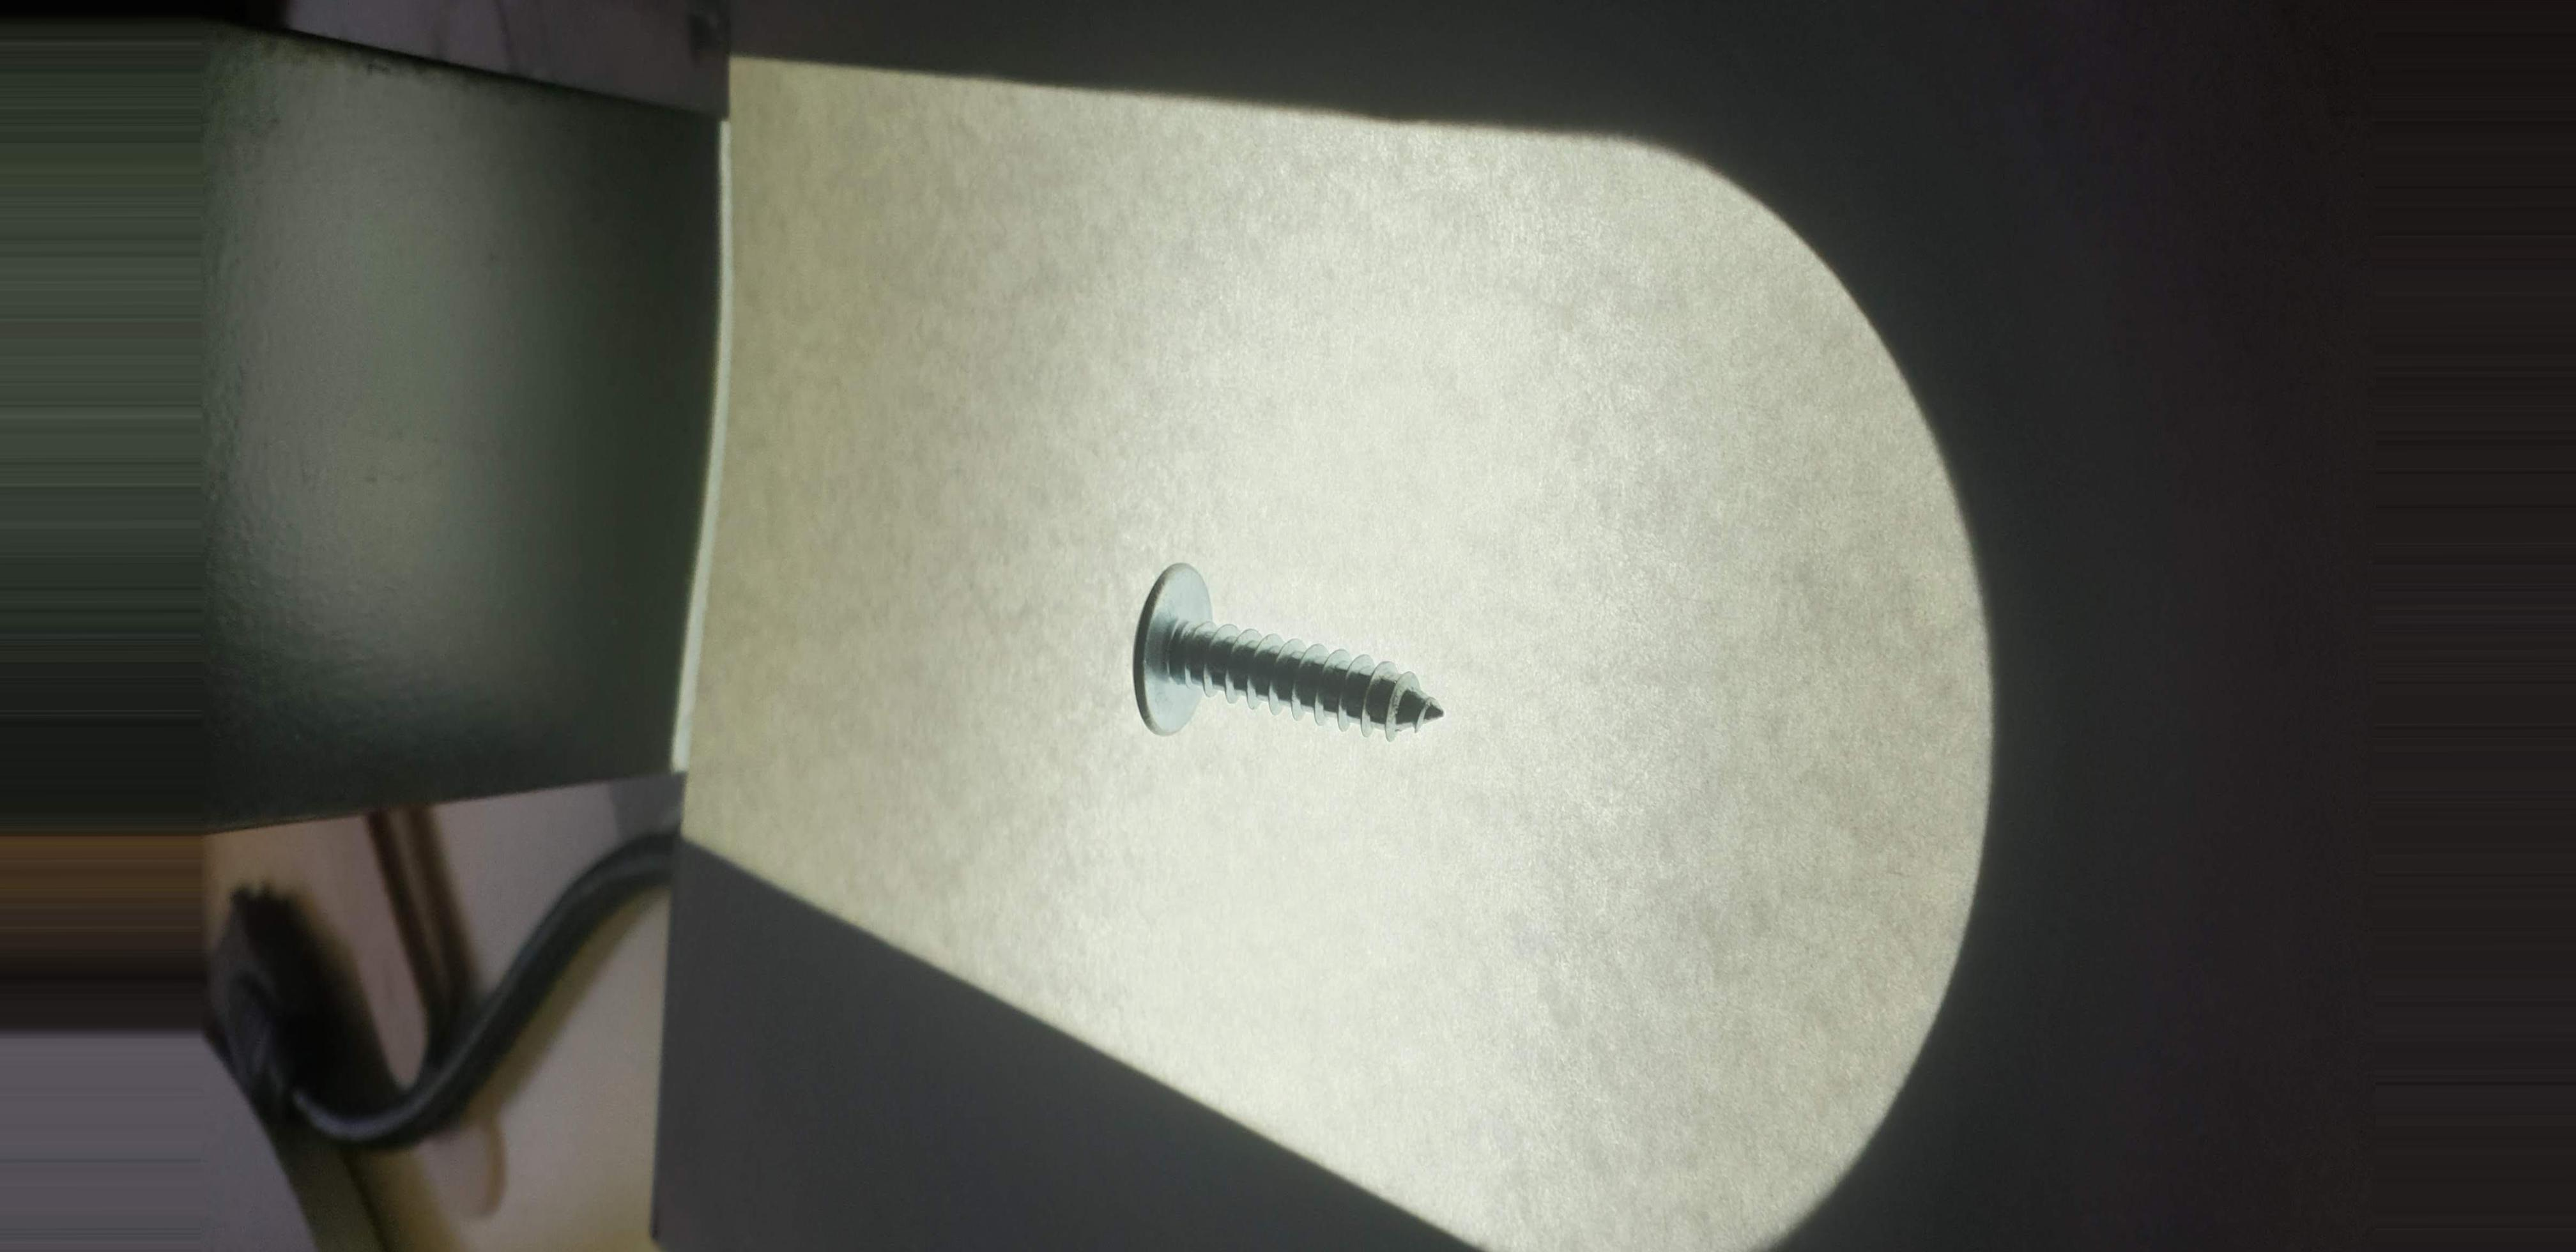S002: (1089, 514, 1505, 797)
